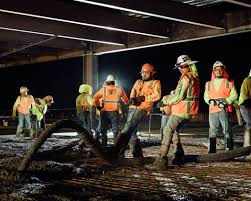safe person: (168, 53, 200, 144), (204, 55, 236, 146), (128, 58, 156, 154), (96, 75, 123, 140), (74, 83, 95, 128), (13, 84, 33, 128), (36, 96, 55, 124)
